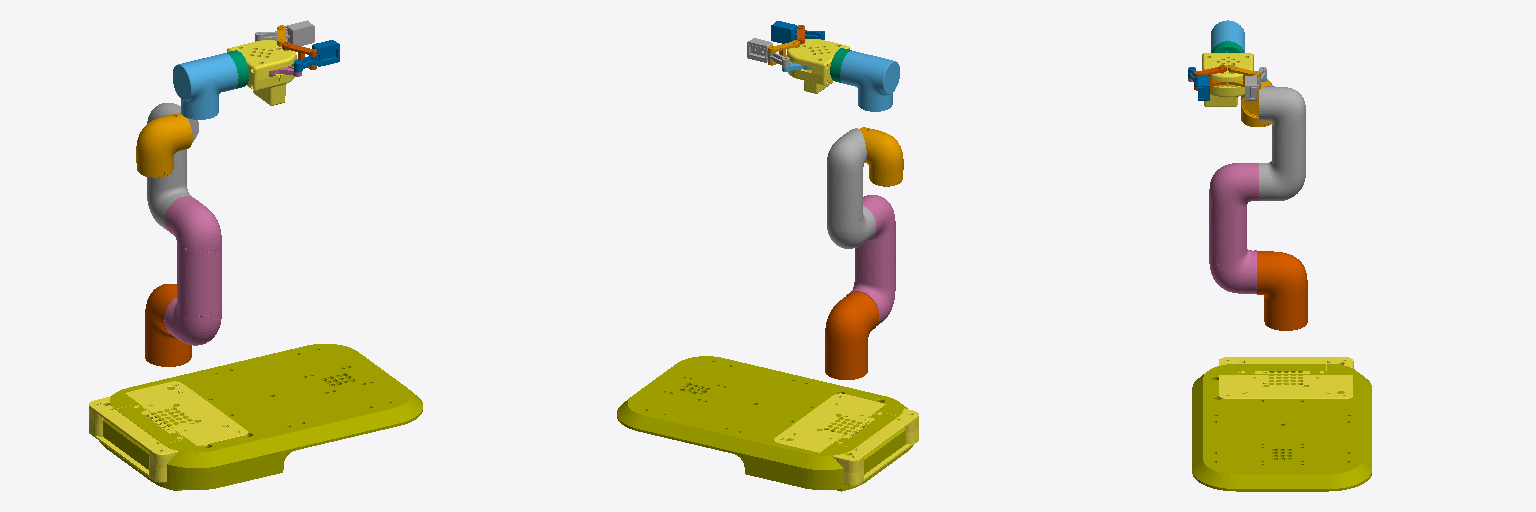
The robot description file, URDF, robot "mycomb":
<?xml version='1.0' encoding='utf-8'?>
<robot name="mycomb">
  <link name="base_link">
    <inertial>
      <mass value="0.001" />
      <origin rpy="0 0 0" xyz="0 0 0" />
      <inertia ixx="0.000001" ixy="0" ixz="0" iyy="0.000001" iyz="0" izz="0.000001" />
    </inertial>
  </link>
  <joint name="dummy_joint" type="fixed">
    <origin xyz="0.0 0.0 0.0" rpy="0 0 0" />
    <parent link="base_link" />
    <child link="base_footprint" />
    <axis xyz="0 0 1" />
  </joint>
  <link name="base_footprint">
    <!-- placeholder inertial added by normalize_urdf.py - replace with CAD values -->
    <!-- myAGV placeholder: 1.8 kg like robots/myagv, box inertia for 0.31 x 0.23 x 0.15 m -->
    <inertial>
      <origin xyz="0 0 0" rpy="0 0 0" />
      <mass value="1.8" />
      <inertia ixx="0.0113" ixy="0" ixz="0" iyy="0.0178" iyz="0" izz="0.0224" />
    </inertial>
    <visual>
      <geometry>
        <mesh filename="../../../myagv/meshes/flat/myagv_base.stl" scale="1 1 1" />
      </geometry>
      <origin xyz="0.0 0.0 0.0" rpy="0.0 0.0 0.0" />
      <material name="black">
        <color rgba="0.7 0.7 0.0 1.0" />
      </material>
    </visual>
    <collision>
      <origin xyz="0.0 0.0 0.0" rpy="0.0 0.0 0.0" />
      <geometry>
        <mesh filename="../../../myagv/meshes/flat/myagv_base.stl" scale="1 1 1" />
      </geometry>
    </collision>
  </link>
  <joint name="base_joint" type="fixed">
    <origin xyz="0.0 0.0 0.0" rpy="0 0 0" />
    <parent link="base_footprint" />
    <child link="base_up" />
    <axis xyz="0 0 1" />
  </joint>
  <link name="base_up">
    <!-- placeholder inertial added by normalize_urdf.py - replace with CAD values -->
    <!-- myAGV placeholder: 1.8 kg like robots/myagv, box inertia for 0.31 x 0.23 x 0.15 m -->
    <inertial>
      <origin xyz="0 0 0" rpy="0 0 0" />
      <mass value="1.8" />
      <inertia ixx="0.0113" ixy="0" ixz="0" iyy="0.0178" iyz="0" izz="0.0224" />
    </inertial>
    <visual>
      <geometry>
        <mesh filename="../../../myagv/meshes/flat/myagv_up.stl" scale="1 1 1" />
      </geometry>
      <origin xyz="0.0 0.0 0.0" rpy="0.0 0.0 0.0" />
      <material name="black">
        <color rgba="0.7 0.7 0.0 1.0" />
      </material>
    </visual>
    <collision>
      <origin xyz="0.0 0.0 0.0" rpy="0.0 0.0 0.0" />
      <geometry>
        <mesh filename="../../../myagv/meshes/flat/myagv_up.stl" scale="1 1 1" />
      </geometry>
    </collision>
  </link>
  <joint name="base_to_g_base" type="fixed">
    <axis xyz="0 0 0" />
    <limit effort="1000.0" lower="-3.14" upper="3.14159" velocity="0" />
    <parent link="base_up" />
    <child link="g_base" />
    <origin xyz="-0.1 0 0.13" rpy="0 0 0" />
  </joint>
  <link name="g_base">
    <!-- placeholder inertial added by normalize_urdf.py - replace with CAD values -->
    <inertial>
      <origin xyz="0 0 0" rpy="0 0 0" />
      <mass value="0.1" />
      <inertia ixx="3.600e-05" ixy="0" ixz="0" iyy="3.600e-05" iyz="0" izz="3.600e-05" />
    </inertial>
    <visual>
      <geometry>
        <mesh filename="../../../mycobot_280_pi/meshes/flat/G_base.stl" />
      </geometry>
      <origin xyz="0.0 0 -0.03" rpy="0 0 1.5708" />
    </visual>
    <collision>
      <geometry>
        <mesh filename="../../../mycobot_280_pi/meshes/flat/G_base.stl" />
      </geometry>
      <origin xyz="0.0 0 -0.03" rpy="0 0 1.5708" />
    </collision>
  </link>
  <link name="joint1">
    <!-- placeholder inertial added by normalize_urdf.py - replace with CAD values -->
    <inertial>
      <origin xyz="0 0 0" rpy="0 0 0" />
      <mass value="0.1" />
      <inertia ixx="3.600e-05" ixy="0" ixz="0" iyy="3.600e-05" iyz="0" izz="3.600e-05" />
    </inertial>
    <visual>
      <geometry>
        <!--- 0.0 0 -0.04  1.5708 3.14159-->
        <mesh filename="../../../mycobot_280_pi/meshes/flat/joint1_pi.stl" />
      </geometry>
      <origin xyz="0.0 0 0 " rpy=" 0 0 -1.5708" />
    </visual>
    <collision>
      <geometry>
        <!--- 0.0 0 -0.04  1.5708 3.14159-->
        <mesh filename="../../../mycobot_280_pi/meshes/flat/joint1_pi.stl" />
      </geometry>
      <origin xyz="0.0 0 0 " rpy=" 0 0 -1.5708" />
    </collision>
  </link>
  <link name="joint2">
    <!-- placeholder inertial added by normalize_urdf.py - replace with CAD values -->
    <inertial>
      <origin xyz="0 0 0" rpy="0 0 0" />
      <mass value="0.1" />
      <inertia ixx="3.600e-05" ixy="0" ixz="0" iyy="3.600e-05" iyz="0" izz="3.600e-05" />
    </inertial>
    <visual>
      <geometry>
        <mesh filename="../../../mycobot_280_pi/meshes/joint2.dae" />
      </geometry>
      <origin xyz="0.0 0 -0.06096 " rpy=" 0 0 -1.5708" />
    </visual>
    <collision>
      <geometry>
        <mesh filename="../../../mycobot_280_pi/meshes/joint2.dae" />
      </geometry>
      <origin xyz="0.0 0 -0.06096 " rpy=" 0 0 -1.5708" />
    </collision>
  </link>
  <link name="joint3">
    <!-- placeholder inertial added by normalize_urdf.py - replace with CAD values -->
    <inertial>
      <origin xyz="0 0 0" rpy="0 0 0" />
      <mass value="0.1" />
      <inertia ixx="3.600e-05" ixy="0" ixz="0" iyy="3.600e-05" iyz="0" izz="3.600e-05" />
    </inertial>
    <visual>
      <geometry>
        <mesh filename="../../../mycobot_280_pi/meshes/joint3.dae" />
      </geometry>
      <origin xyz="0.0 0 0.03256 " rpy=" 0 -1.5708 0" />
    </visual>
    <collision>
      <geometry>
        <mesh filename="../../../mycobot_280_pi/meshes/joint3.dae" />
      </geometry>
      <origin xyz="0.0 0 0.03256 " rpy=" 0 -1.5708 0" />
    </collision>
  </link>
  <link name="joint4">
    <!-- placeholder inertial added by normalize_urdf.py - replace with CAD values -->
    <inertial>
      <origin xyz="0 0 0" rpy="0 0 0" />
      <mass value="0.1" />
      <inertia ixx="3.600e-05" ixy="0" ixz="0" iyy="3.600e-05" iyz="0" izz="3.600e-05" />
    </inertial>
    <visual>
      <geometry>
        <!--- 0.0 0 -0.04 -->
        <mesh filename="../../../mycobot_280_pi/meshes/joint4.dae" />
      </geometry>
      <origin xyz="0.0 0 0.03056 " rpy=" 0 -1.5708 0" />
    </visual>
    <collision>
      <geometry>
        <!--- 0.0 0 -0.04 -->
        <mesh filename="../../../mycobot_280_pi/meshes/joint4.dae" />
      </geometry>
      <origin xyz="0.0 0 0.03056 " rpy=" 0 -1.5708 0" />
    </collision>
  </link>
  <link name="joint5">
    <!-- placeholder inertial added by normalize_urdf.py - replace with CAD values -->
    <inertial>
      <origin xyz="0 0 0" rpy="0 0 0" />
      <mass value="0.1" />
      <inertia ixx="3.600e-05" ixy="0" ixz="0" iyy="3.600e-05" iyz="0" izz="3.600e-05" />
    </inertial>
    <visual>
      <geometry>
        <!--- 0.0 0 -0.04 -->
        <mesh filename="../../../mycobot_280_pi/meshes/flat/joint5.stl" />
      </geometry>
      <origin xyz="0.0 0 -0.03356 " rpy=" -1.5708 0 0" />
    </visual>
    <collision>
      <geometry>
        <!--- 0.0 0 -0.04 -->
        <mesh filename="../../../mycobot_280_pi/meshes/flat/joint5.stl" />
      </geometry>
      <origin xyz="0.0 0 -0.03356 " rpy=" -1.5708 0 0" />
    </collision>
  </link>
  <link name="joint6">
    <!-- placeholder inertial added by normalize_urdf.py - replace with CAD values -->
    <inertial>
      <origin xyz="0 0 0" rpy="0 0 0" />
      <mass value="0.1" />
      <inertia ixx="3.600e-05" ixy="0" ixz="0" iyy="3.600e-05" iyz="0" izz="3.600e-05" />
    </inertial>
    <visual>
      <geometry>
        <!--- 0.0 0 -0.04 -->
        <mesh filename="../../../mycobot_280_pi/meshes/joint6.dae" />
      </geometry>
      <origin xyz="0 0.00 -0.038 " rpy=" 0 0 0" />
    </visual>
    <collision>
      <geometry>
        <!--- 0.0 0 -0.04 -->
        <mesh filename="../../../mycobot_280_pi/meshes/joint6.dae" />
      </geometry>
      <origin xyz="0 0.00 -0.038 " rpy=" 0 0 0" />
    </collision>
  </link>
  <link name="joint6_flange">
    <!-- placeholder inertial added by normalize_urdf.py - replace with CAD values -->
    <inertial>
      <origin xyz="0 0 0" rpy="0 0 0" />
      <mass value="0.1" />
      <inertia ixx="3.600e-05" ixy="0" ixz="0" iyy="3.600e-05" iyz="0" izz="3.600e-05" />
    </inertial>
    <visual>
      <geometry>
        <!--- 0.0 0 -0.04 -->
        <mesh filename="../../../mycobot_280_pi/meshes/joint7.dae" />
      </geometry>
      <origin xyz="0.0 0 -0.012 " rpy=" 0 0 0" />
    </visual>
    <collision>
      <geometry>
        <!--- 0.0 0 -0.04 -->
        <mesh filename="../../../mycobot_280_pi/meshes/joint7.dae" />
      </geometry>
      <origin xyz="0.0 0 -0.012 " rpy=" 0 0 0" />
    </collision>
  </link>
  <link name="gripper_base">
    <!-- placeholder inertial added by normalize_urdf.py - replace with CAD values -->
    <inertial>
      <origin xyz="0 0 0" rpy="0 0 0" />
      <mass value="0.1" />
      <inertia ixx="3.600e-05" ixy="0" ixz="0" iyy="3.600e-05" iyz="0" izz="3.600e-05" />
    </inertial>
    <visual>
      <geometry>
        <mesh filename="../../../mycobot_280_pi/meshes/flat/gripper_base.stl" />
      </geometry>
      <origin xyz="0.0 0.0077 -0.012" rpy=" 0 0 0" />
    </visual>
    <collision>
      <geometry>
        <mesh filename="../../../mycobot_280_pi/meshes/flat/gripper_base.stl" />
      </geometry>
      <origin xyz="0.0 0.0077 -0.012 " rpy=" 0 0 0" />
    </collision>
  </link>
  <link name="gripper_left1">
    <!-- placeholder inertial added by normalize_urdf.py - replace with CAD values -->
    <inertial>
      <origin xyz="0 0 0" rpy="0 0 0" />
      <mass value="0.1" />
      <inertia ixx="3.600e-05" ixy="0" ixz="0" iyy="3.600e-05" iyz="0" izz="3.600e-05" />
    </inertial>
    <visual>
      <geometry>
        <!--- 0.0 0 -0.04 -->
        <mesh filename="../../../mycobot_280_pi/meshes/flat/gripper_left1.stl" />
      </geometry>
      <origin xyz="0.039 -0.0133 -0.012 " rpy=" 0 0 0" />
      <!-- <origin xyz = "0.0 0 -0.012 " rpy = " 0 0 0"/> -->
    </visual>
    <!-- collision origin aligned with visual (was copy-pasted from the mirrored link) -->
    <collision>
      <geometry>
        <mesh filename="../../../mycobot_280_pi/meshes/flat/gripper_left1.stl" />
      </geometry>
      <origin xyz="0.039 -0.0133 -0.012 " rpy=" 0 0 0" />
    </collision>
  </link>
  <link name="gripper_left2">
    <!-- placeholder inertial added by normalize_urdf.py - replace with CAD values -->
    <inertial>
      <origin xyz="0 0 0" rpy="0 0 0" />
      <mass value="0.1" />
      <inertia ixx="3.600e-05" ixy="0" ixz="0" iyy="3.600e-05" iyz="0" izz="3.600e-05" />
    </inertial>
    <visual>
      <geometry>
        <mesh filename="../../../mycobot_280_pi/meshes/flat/gripper_left2.stl" />
      </geometry>
      <origin xyz="0.005 -0.0195 -0.012 " rpy=" 0 0 0" />
    </visual>
    <!-- collision origin aligned with visual (was copy-pasted from the mirrored link) -->
    <collision>
      <geometry>
        <mesh filename="../../../mycobot_280_pi/meshes/flat/gripper_left2.stl" />
      </geometry>
      <origin xyz="0.005 -0.0195 -0.012 " rpy=" 0 0 0" />
    </collision>
  </link>
  <link name="gripper_left3">
    <!-- placeholder inertial added by normalize_urdf.py - replace with CAD values -->
    <inertial>
      <origin xyz="0 0 0" rpy="0 0 0" />
      <mass value="0.1" />
      <inertia ixx="3.600e-05" ixy="0" ixz="0" iyy="3.600e-05" iyz="0" izz="3.600e-05" />
    </inertial>
    <visual>
      <geometry>
        <mesh filename="../../../mycobot_280_pi/meshes/flat/gripper_left3.stl" />
      </geometry>
      <origin xyz="0.012 0.0025 -0.012 " rpy=" 0 0 0" />
      <!-- <origin xyz = "0.0 0 0 " rpy = " 0 0 0"/> -->
    </visual>
    <collision>
      <geometry>
        <mesh filename="../../../mycobot_280_pi/meshes/flat/gripper_left3.stl" />
      </geometry>
      <origin xyz="0.012 0.0025 -0.012" rpy=" 0 0 0" />
    </collision>
  </link>
  <link name="gripper_right1">
    <!-- placeholder inertial added by normalize_urdf.py - replace with CAD values -->
    <inertial>
      <origin xyz="0 0 0" rpy="0 0 0" />
      <mass value="0.1" />
      <inertia ixx="3.600e-05" ixy="0" ixz="0" iyy="3.600e-05" iyz="0" izz="3.600e-05" />
    </inertial>
    <visual>
      <geometry>
        <mesh filename="../../../mycobot_280_pi/meshes/flat/gripper_right1.stl" />
      </geometry>
      <origin xyz="-0.039 -0.0133 -0.012 " rpy=" 0 0 0" />
    </visual>
    <collision>
      <geometry>
        <mesh filename="../../../mycobot_280_pi/meshes/flat/gripper_right1.stl" />
      </geometry>
      <origin xyz="-0.039 -0.0133 -0.012 " rpy=" 0 0 0" />
    </collision>
  </link>
  <link name="gripper_right2">
    <!-- placeholder inertial added by normalize_urdf.py - replace with CAD values -->
    <inertial>
      <origin xyz="0 0 0" rpy="0 0 0" />
      <mass value="0.1" />
      <inertia ixx="3.600e-05" ixy="0" ixz="0" iyy="3.600e-05" iyz="0" izz="3.600e-05" />
    </inertial>
    <visual>
      <geometry>
        <mesh filename="../../../mycobot_280_pi/meshes/flat/gripper_right2.stl" />
      </geometry>
      <origin xyz="-0.005 -0.0195 -0.012 " rpy=" 0 0 0" />
    </visual>
    <collision>
      <geometry>
        <mesh filename="../../../mycobot_280_pi/meshes/flat/gripper_right2.stl" />
      </geometry>
      <origin xyz="-0.005 -0.0195 -0.012 " rpy=" 0 0 0" />
    </collision>
  </link>
  <link name="gripper_right3">
    <!-- placeholder inertial added by normalize_urdf.py - replace with CAD values -->
    <inertial>
      <origin xyz="0 0 0" rpy="0 0 0" />
      <mass value="0.1" />
      <inertia ixx="3.600e-05" ixy="0" ixz="0" iyy="3.600e-05" iyz="0" izz="3.600e-05" />
    </inertial>
    <visual>
      <geometry>
        <mesh filename="../../../mycobot_280_pi/meshes/flat/gripper_right3.stl" />
      </geometry>
      <origin xyz="-0.012 0.0025 -0.012 " rpy=" 0 0 0" />
    </visual>
    <collision>
      <geometry>
        <mesh filename="../../../mycobot_280_pi/meshes/flat/gripper_right3.stl" />
      </geometry>
      <origin xyz="-0.012 0.0025 -0.012" rpy=" 0 0 0" />
    </collision>
  </link>
  <joint name="g_base_to_joint1" type="fixed">
    <axis xyz="0 0 0" />
    <limit effort="1000.0" lower="-6.2831853" upper="6.2831853" velocity="0" />
    <parent link="g_base" />
    <child link="joint1" />
    <origin xyz="0 0 0" rpy="0 0 0" />
  </joint>
  <joint name="joint2_to_joint1" type="revolute">
    <axis xyz="0 0 1" />
    <limit effort="1000.0" lower="-6.2831853" upper="6.2831853" velocity="2" />
    <parent link="joint1" />
    <child link="joint2" />
    <origin xyz="0 0 0.13156" rpy="0 0 0" />
  </joint>
  <joint name="joint3_to_joint2" type="revolute">
    <axis xyz="0 0 1" />
    <limit effort="1000.0" lower="-6.2831853" upper="6.2831853" velocity="2" />
    <parent link="joint2" />
    <child link="joint3" />
    <origin xyz="0 0  0" rpy="0 1.5708 -1.5708" />
  </joint>
  <joint name="joint4_to_joint3" type="revolute">
    <axis xyz=" 0 0 1" />
    <limit effort="1000.0" lower="-6.2831853" upper="6.2831853" velocity="2" />
    <parent link="joint3" />
    <child link="joint4" />
    <origin xyz="  -0.1104 0 0   " rpy="0 0 0" />
  </joint>
  <joint name="joint5_to_joint4" type="revolute">
    <axis xyz=" 0 0 1" />
    <limit effort="1000.0" lower="-6.2831853" upper="6.2831853" velocity="2" />
    <parent link="joint4" />
    <child link="joint5" />
    <origin xyz="-0.096 0 0.06462" rpy="0 0 -1.5708" />
  </joint>
  <joint name="joint6_to_joint5" type="revolute">
    <axis xyz="0 0 1" />
    <limit effort="1000.0" lower="-6.2831853" upper="6.2831853" velocity="2" />
    <parent link="joint5" />
    <child link="joint6" />
    <origin xyz="0 -0.07318 0" rpy="1.5708 -1.5708 0" />
  </joint>
  <joint name="joint6output_to_joint6" type="revolute">
    <axis xyz="0 0 1" />
    <limit effort="1000.0" lower="-6.2831853" upper="6.2831853" velocity="2" />
    <parent link="joint6" />
    <child link="joint6_flange" />
    <origin xyz="0 0.0456 0" rpy="-1.5708 0 0" />
  </joint>
  <joint name="joint6output_to_gripper_base" type="fixed">
    <!-- <axis xyz="0 0 1"/>
    <limit effort = "1000.0" lower = "-3.14" upper = "3.14159" velocity = "0"/> -->
    <parent link="joint6_flange" />
    <child link="gripper_base" />
    <origin xyz="0 0 0.0268" rpy="1.5708 0 3.14159" />
  </joint>
  <joint name="gripper_controller" type="revolute">
    <axis xyz="0 0 1" />
    <limit effort="1000.0" lower="-0.7" upper="0.15" velocity="2" />
    <parent link="gripper_base" />
    <child link="gripper_left3" />
    <origin xyz="-0.012 0.005 0" rpy="0 0 0" />
  </joint>
  <joint name="gripper_base_to_gripper_left2" type="revolute">
    <axis xyz="0 0 1" />
    <limit effort="1000.0" lower="-0.8" upper="0.5" velocity="2" />
    <parent link="gripper_base" />
    <child link="gripper_left2" />
    <origin xyz="-0.005 0.027 0" rpy="0 0 0" />
    <mimic joint="gripper_controller" multiplier="1.0" offset="0" />
  </joint>
  <joint name="gripper_left3_to_gripper_left1" type="revolute">
    <axis xyz="0 0 1" />
    <limit effort="1000.0" lower="-0.5" upper="0.5" velocity="2" />
    <parent link="gripper_left3" />
    <child link="gripper_left1" />
    <origin xyz="-0.027 0.016 0" rpy="0 0 0" />
    <mimic joint="gripper_controller" multiplier="-1.0" offset="0" />
  </joint>
  <joint name="gripper_base_to_gripper_right3" type="revolute">
    <axis xyz="0 0 1" />
    <limit effort="1000.0" lower="-0.15" upper="0.7" velocity="2" />
    <parent link="gripper_base" />
    <child link="gripper_right3" />
    <origin xyz="0.012 0.005 0" rpy="0 0 0" />
    <mimic joint="gripper_controller" multiplier="-1.0" offset="0" />
  </joint>
  <joint name="gripper_base_to_gripper_right2" type="revolute">
    <axis xyz="0 0 1" />
    <limit effort="1000.0" lower="-0.5" upper="0.8" velocity="2" />
    <parent link="gripper_base" />
    <child link="gripper_right2" />
    <origin xyz="0.005 0.027 0" rpy="0 0 0" />
    <mimic joint="gripper_controller" multiplier="-1.0" offset="0" />
  </joint>
  <joint name="gripper_right3_to_gripper_right1" type="revolute">
    <axis xyz="0 0 1" />
    <limit effort="1000.0" lower="-0.5" upper="0.5" velocity="2" />
    <parent link="gripper_right3" />
    <child link="gripper_right1" />
    <origin xyz="0.027 0.016 0" rpy="0 0 0" />
    <mimic joint="gripper_controller" multiplier="1.0" offset="0" />
  </joint>
</robot>

--- What the picture shows (computed from the rendered views, not written in the file) ---
The picture shows the robot from 3 angles, left to right: view 1: azimuth 30°, elevation 25°; view 2: azimuth 150°, elevation 25°; view 3: azimuth 270°, elevation 25°; orthographic projection.
Model mycomb with 18 links and 17 joints (12 revolute, 5 fixed), rooted at base_link, posed every joint at zero.
Links seen in each view (by area): view 1: base_up, joint3, g_base, joint6, joint5, gripper_base, joint2, joint4, gripper_left1, gripper_right1; view 2: base_up, g_base, joint4, joint2, joint3, joint6, gripper_base, joint5, gripper_right1, gripper_left1; view 3: base_up, joint3, joint4, g_base, joint2, gripper_base, joint6, joint5.
Boxes of the visible links, <box> form: base_up: <box>99,344,422,490</box>; joint3: <box>164,196,221,345</box>; g_base: <box>89,381,247,482</box>; joint6: <box>173,53,238,119</box>; joint5: <box>136,113,192,177</box>; gripper_base: <box>227,40,296,105</box>; joint2: <box>145,284,191,366</box>; joint4: <box>147,103,198,230</box>; gripper_left1: <box>294,40,339,72</box>; gripper_right1: <box>255,20,314,45</box>; base_up: <box>617,356,912,491</box>; g_base: <box>774,393,918,485</box>; joint4: <box>827,128,875,248</box>; joint2: <box>825,292,878,379</box>; joint3: <box>846,195,895,325</box>; joint6: <box>840,51,899,111</box>; gripper_base: <box>787,39,849,93</box>; joint5: <box>859,127,903,186</box>; gripper_right1: <box>747,38,789,67</box>; gripper_left1: <box>771,21,824,43</box>; base_up: <box>1192,364,1371,491</box>; joint3: <box>1209,163,1258,293</box>; joint4: <box>1259,86,1305,200</box>; g_base: <box>1219,357,1353,399</box>; joint2: <box>1257,251,1307,330</box>; gripper_base: <box>1202,53,1253,106</box>; joint6: <box>1211,20,1244,52</box>; joint5: <box>1241,79,1272,126</box>.
Size in the robot's own frame: 0.3172 by 0.2051 by 0.469 metres.
15 mesh visuals loaded from 17 distinct referenced files (10 binary STL, 5 Collada DAE); not drawn: 2 (reference not matched to a file when rendering).
